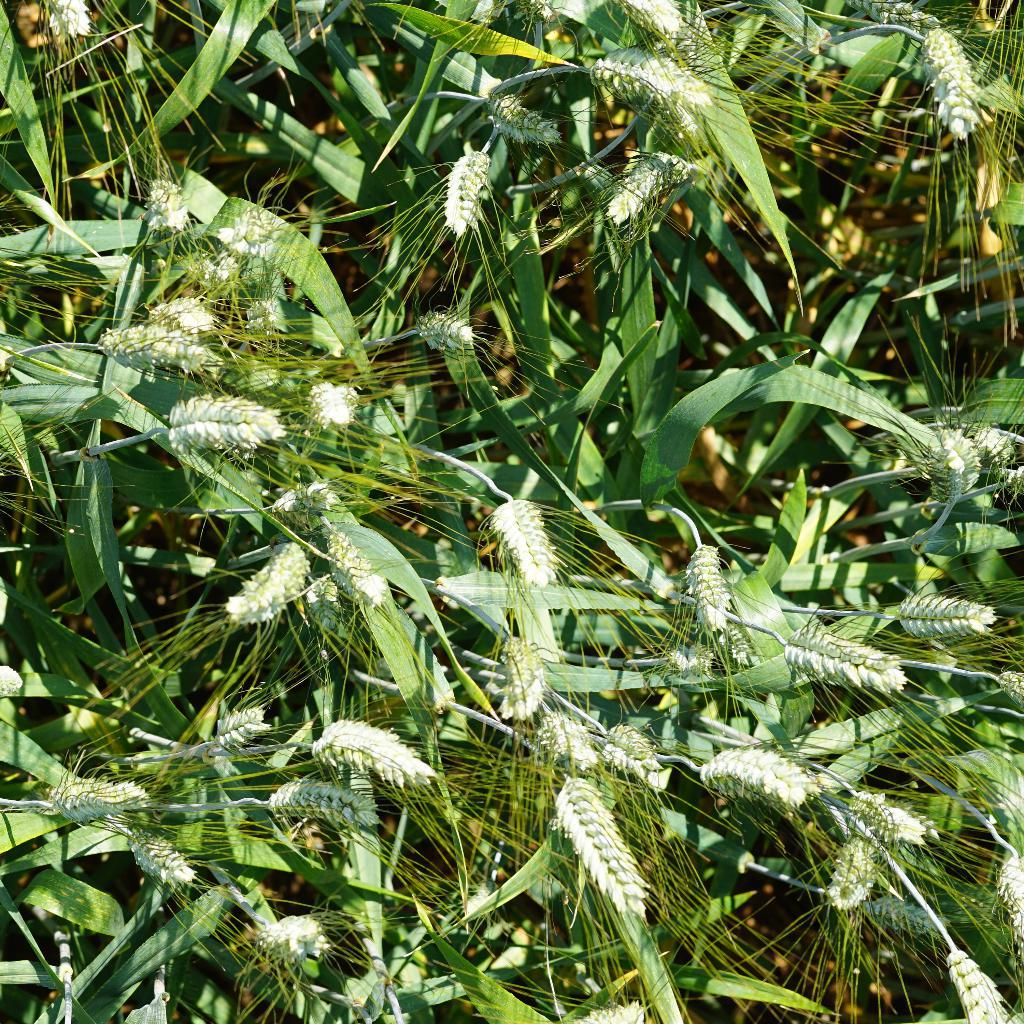0-0: (556, 766, 662, 919), (305, 701, 451, 791), (130, 391, 291, 470), (585, 43, 720, 137), (687, 732, 834, 811), (475, 479, 574, 593), (595, 146, 709, 236), (773, 631, 914, 697), (920, 26, 994, 149), (320, 520, 408, 616), (247, 773, 381, 836), (847, 774, 944, 854), (886, 583, 1006, 647), (671, 529, 744, 634), (43, 765, 152, 832), (228, 537, 306, 628), (83, 316, 213, 370), (247, 460, 339, 535), (426, 134, 493, 236), (246, 903, 344, 972), (905, 421, 977, 513), (982, 830, 1024, 981), (594, 709, 668, 789), (490, 626, 552, 721), (867, 890, 968, 948), (138, 280, 238, 337), (206, 688, 280, 763), (131, 825, 208, 896), (479, 97, 571, 154), (825, 818, 878, 915), (967, 416, 1024, 503), (836, 0, 940, 45), (382, 309, 478, 357), (137, 171, 200, 243), (538, 703, 601, 772), (301, 367, 362, 428), (219, 208, 288, 261), (658, 635, 735, 680), (174, 245, 240, 292), (295, 574, 337, 645), (30, 0, 109, 37), (243, 290, 295, 346)
